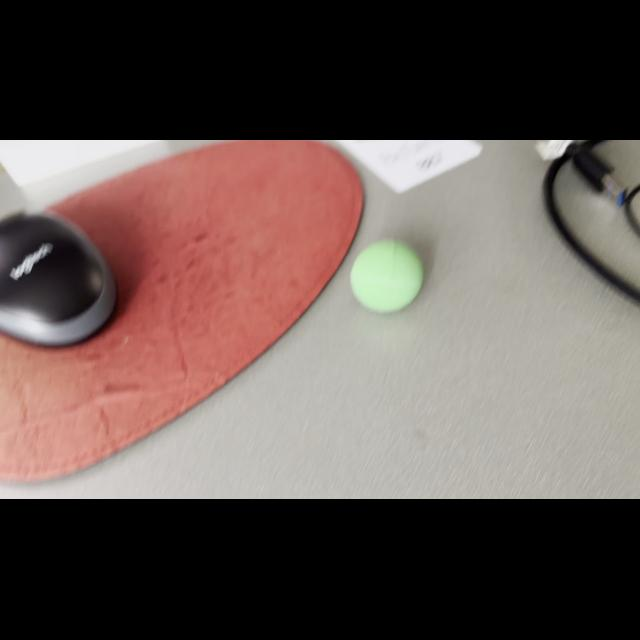objects: (346, 234, 434, 316)
